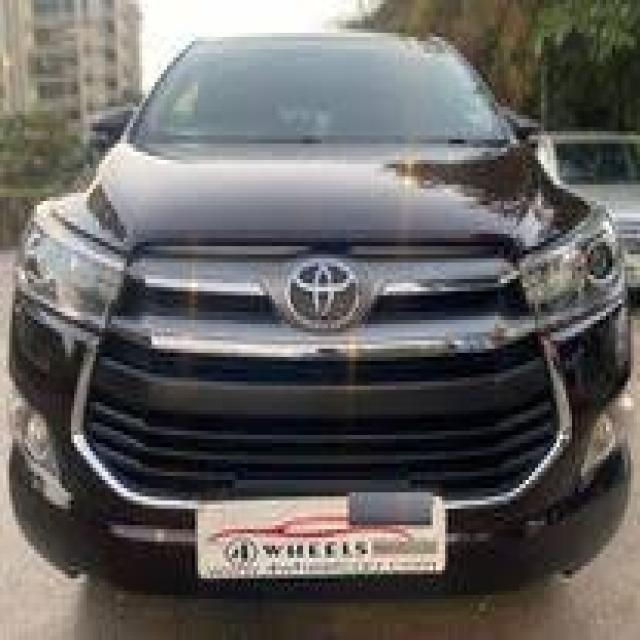light_vehicle: (8, 30, 632, 583)
